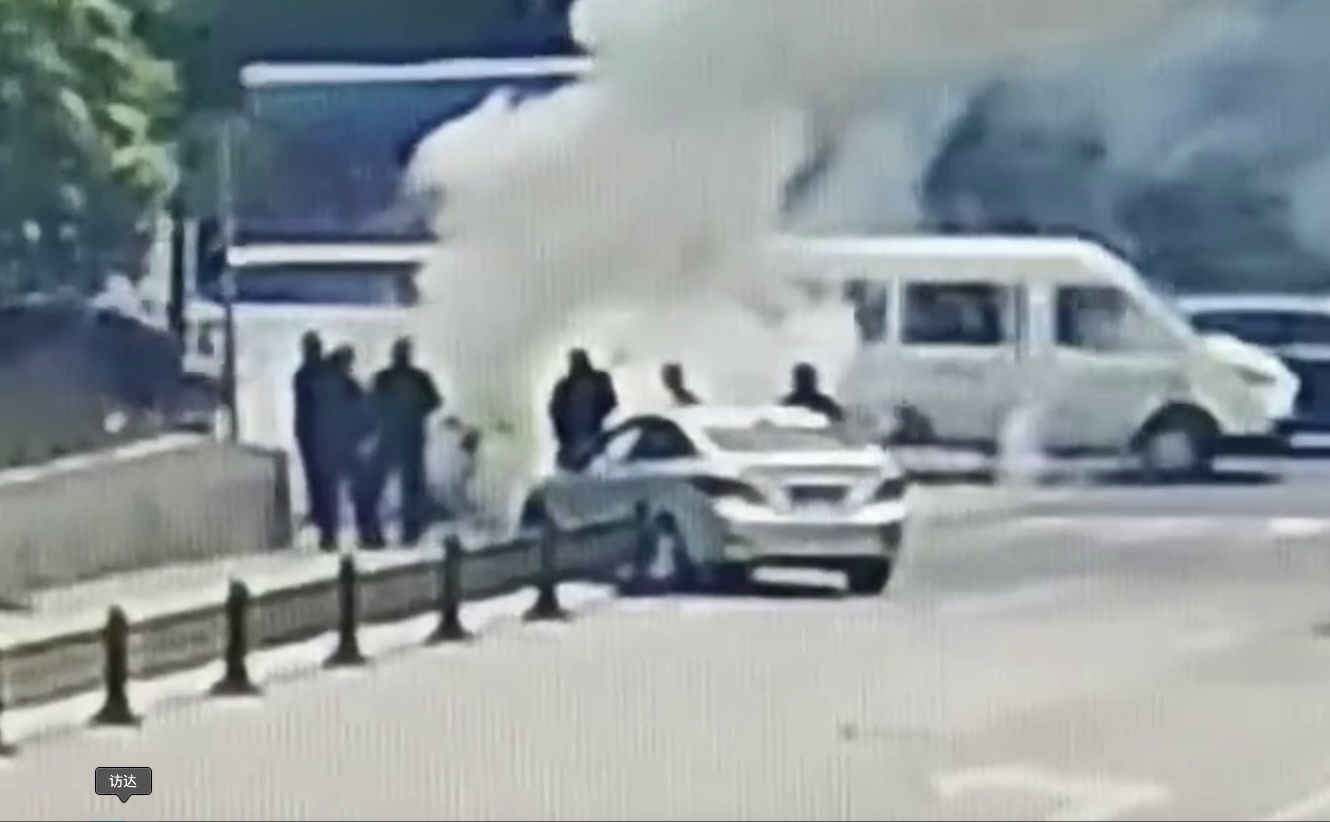smoke: (363, 9, 983, 452)
